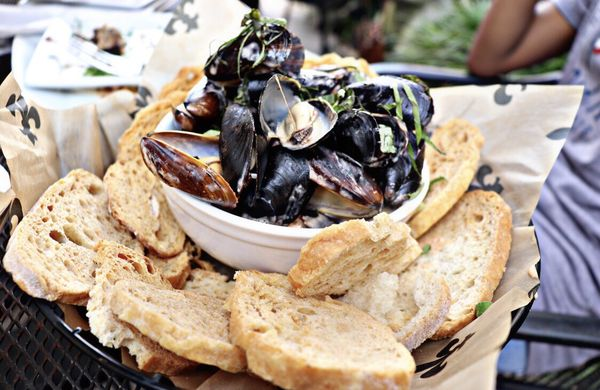soup: (224, 268, 417, 390)
sushi: (131, 32, 493, 275)
